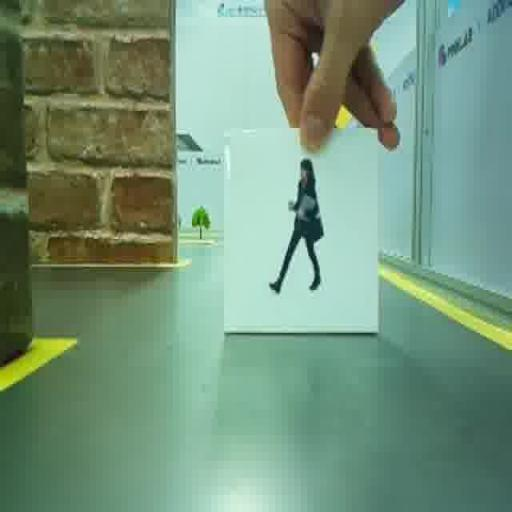human: (269, 159, 323, 293)
